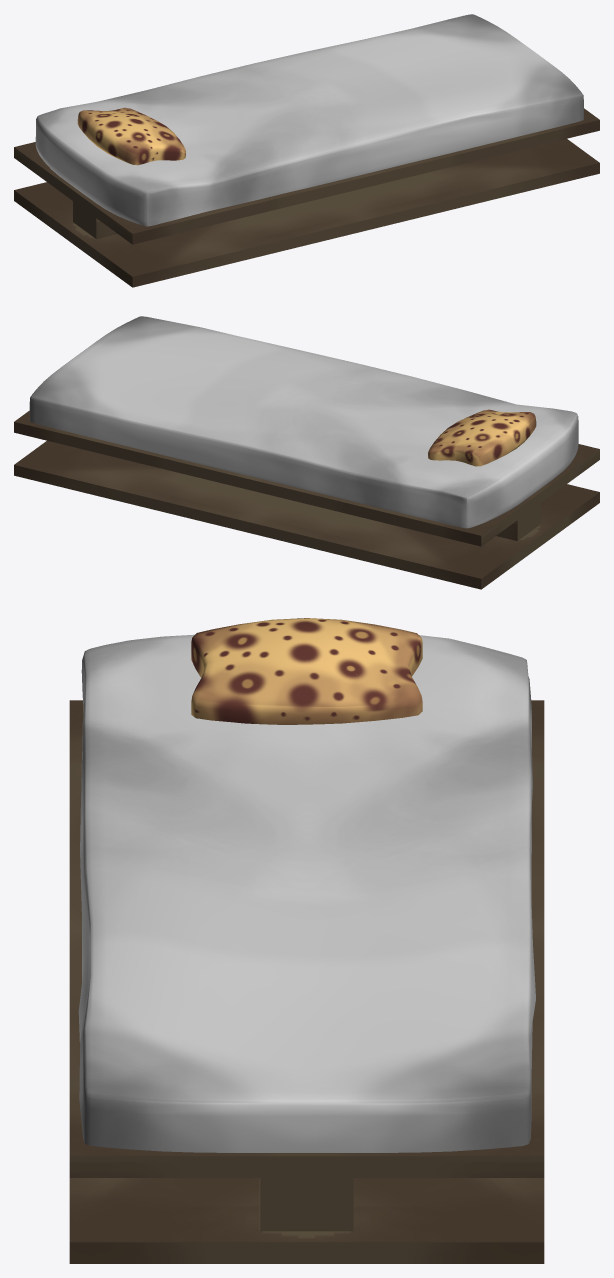
Rendered from Bed.glb.
The picture shows the model from 3 angles, top to bottom: view 1: azimuth 30°, elevation 25°; view 2: azimuth 150°, elevation 25°; view 3: azimuth 270°, elevation 25°; orthographic projection. The views are drawn at different scales.
Visible parts, largest first — view 1: Cube.001, Cube, Cube.002; view 2: Cube.001, Cube, Cube.002; view 3: Cube.001, Cube, Cube.002.
Part boxes in pixels (<box>): Cube.001: <box>35,14,583,226</box>; Cube: <box>14,108,599,287</box>; Cube.002: <box>77,107,185,165</box>; Cube.001: <box>29,316,578,528</box>; Cube: <box>14,410,599,589</box>; Cube.002: <box>428,409,536,466</box>; Cube.001: <box>78,634,535,1152</box>; Cube: <box>69,700,544,1263</box>; Cube.002: <box>191,618,422,724</box>.
Bounding box in the file's own units: 2.44 × 0.552 × 1.07.
3 materials, 3 textured.
